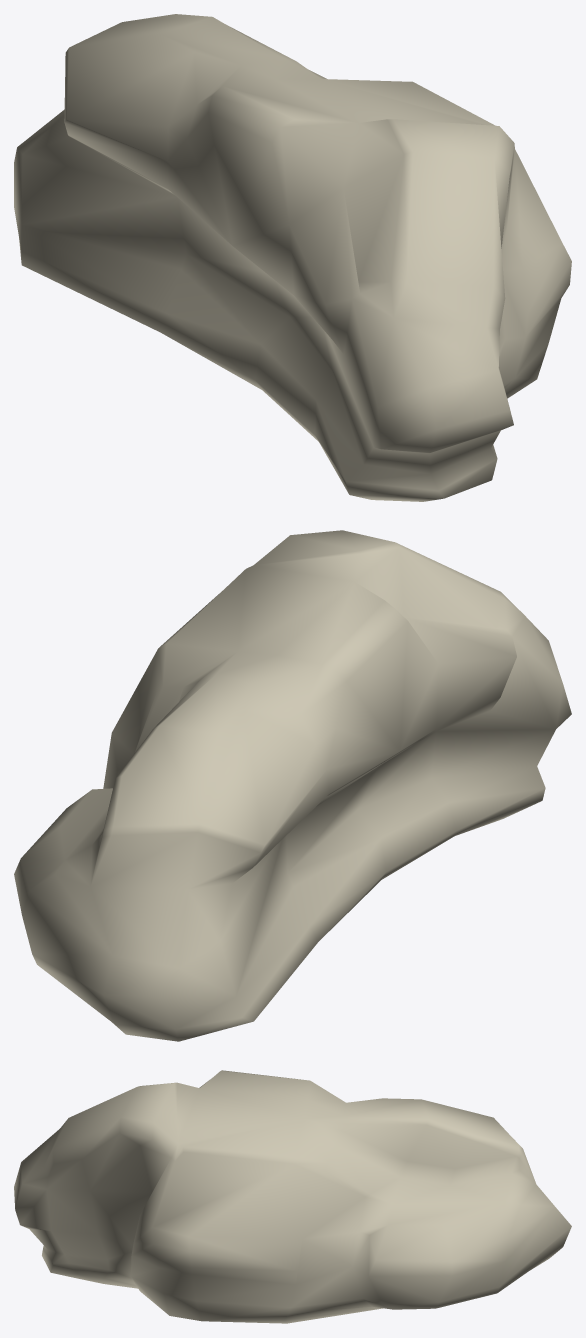
The model's file is cliff_wall08.fbx.
3 renders of one model, top to bottom at view 1: azimuth 30°, elevation 25°; view 2: azimuth 150°, elevation 25°; view 3: azimuth 270°, elevation 25°, orthographic. The views are drawn at different scales.
Parts seen in each view (by area): view 1: cliff_wall_08_reference; view 2: cliff_wall_08_reference; view 3: cliff_wall_08_reference.
Part boxes in pixels (x1,y1,x2,y2): cliff_wall_08_reference: [14, 14, 571, 501]; cliff_wall_08_reference: [14, 530, 571, 1041]; cliff_wall_08_reference: [14, 1070, 571, 1323].
Bounding box in the file's own units: 134 × 130 × 327.
